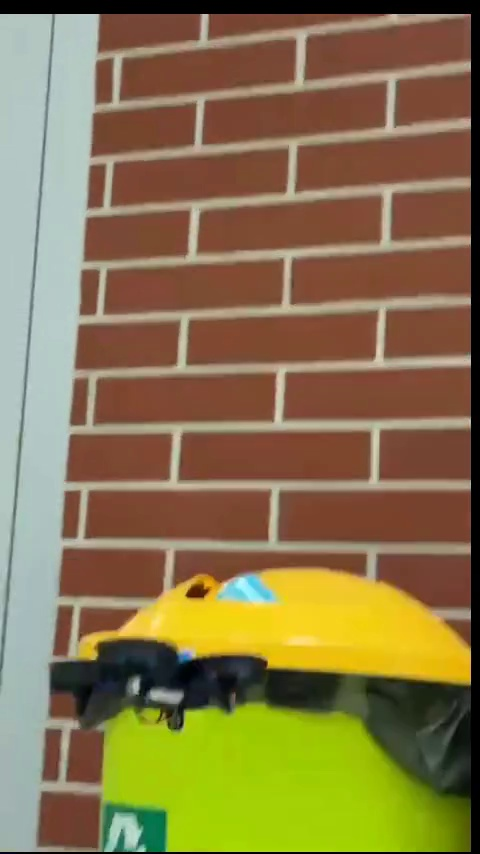drone: (51, 642, 265, 722)
